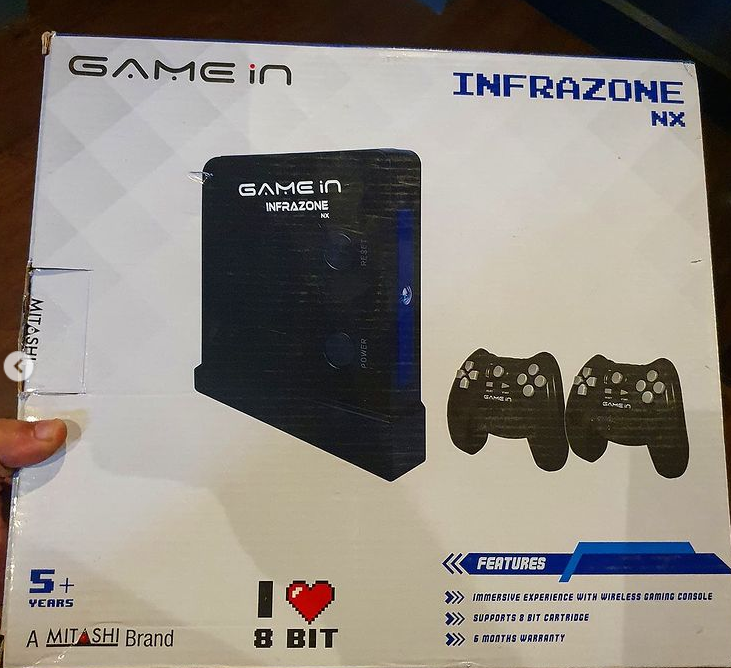gamingconsole: (571, 354, 690, 479), (453, 348, 568, 474)
